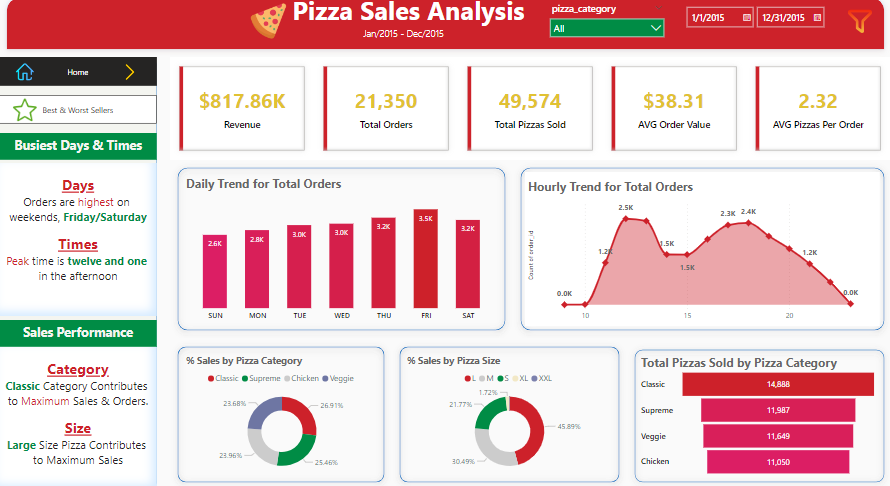

Layout of this report page (visuals, bound fields, positions):
{"tool":"powerbi","page":{"name":"Home","canvas":[1500,840],"ordinal":0},"visuals":[{"type":"shape","box":[0,0,1500.2,112.6],"z":0},{"type":"textbox","box":[473.8,0,428.4,73.9],"z":1000},{"type":"textbox","box":[598.1,57.1,163,33.6],"z":2000},{"type":"cardVisual","fields":{"Data":["_KPI's.Revenue","_KPI's.Total Orders","_KPI's.Total Pizzas Sold","_KPI's.AVG Order Value","_KPI's.AVG Pizzas Per Order"]},"box":[287.3,112.6,1213,173],"z":3000},{"type":"shape","box":[287.3,285.6,576.2,299],"z":4000},{"type":"shape","box":[863.5,285.6,636.7,299],"z":5000},{"type":"columnChart","title":"Daily Trend for Total Orders","fields":{"Y":["_KPI's.Total Orders"],"Category":["pizza_sales.Short Month"]},"box":[309.1,305.8,534.2,258.7],"z":6000},{"type":"shape","box":[287.3,586.3,373,253.7],"z":7000},{"type":"shape","box":[660.2,586.3,394.8,253.7],"z":8000},{"type":"shape","box":[1055,586.3,445.2,253.7],"z":9000},{"type":"donutChart","title":"% Sales by Pizza Category","fields":{"Category":["pizza_sales.pizza_category"],"Y":["Sum(pizza_sales.total_price)"]},"box":[309.1,606.5,332.6,215],"z":10000},{"type":"donutChart","title":"% Sales by Pizza Size","fields":{"Y":["Sum(pizza_sales.total_price)"],"Category":["pizza_sales.pizza_size"]},"box":[680.4,606.5,354.5,215],"z":11000},{"type":"funnel","title":"Total Pizzas Sold by Pizza Category","fields":{"Category":["pizza_sales.pizza_category"],"Y":["Sum(pizza_sales.quantity)"]},"box":[1073.5,606.5,406.6,215],"z":12000},{"type":"areaChart","title":"Hourly Trend for Total Orders","fields":{"Category":["pizza_sales.Hour"],"Y":["Count(pizza_sales.order_id)"]},"box":[883.7,305.8,596.4,258.7],"z":13000},{"type":"shape","box":[0,112.6,265.4,727.4],"z":14000},{"type":"textbox","box":[0,240.2,265.4,45.4],"z":15000},{"type":"textbox","box":[0,599.8,265.4,238.6],"z":16000},{"type":"textbox","box":[0,554.4,265.4,45.4],"z":17000},{"type":"textbox","box":[0,290.6,265.4,257],"z":18000},{"type":"slicer","fields":{"Values":["pizza_sales.pizza_category"]},"box":[915.6,15.1,211.7,75.6],"z":19000},{"type":"slicer","fields":{"Values":["pizza_sales.order_date"]},"box":[1142.4,18.5,262.1,75.6],"z":20000},{"type":"image","box":[416.6,15.1,72.2,73.9],"z":20001},{"type":"image","box":[1412.9,13.4,67.2,75.6],"z":20002},{"type":"pageNavigator","box":[0,112.6,265.4,48.7],"z":20003},{"type":"pageNavigator","box":[0,176.4,265.4,48.7],"z":20004},{"type":"image","box":[23.5,112.6,40.3,48.7],"z":20005},{"type":"image","box":[18.5,171.4,50.4,60.5],"z":20006},{"type":"image","box":[196.6,119.3,47,37],"z":20007}]}

Visuals, with their boxes in screenshot pixels (x1, y1, x2, y2), scaled from the page's 1500x840 canvas onto the 890x486 screenshot:
shape: 0,0,889,65
textbox: 281,0,535,43
textbox: 355,33,452,52
cardVisual - _KPI's.Revenue x _KPI's.Total Orders: 170,65,889,165
shape: 170,165,512,338
shape: 512,165,889,338
"Daily Trend for Total Orders" columnChart: 183,177,500,327
shape: 170,339,392,485
shape: 392,339,626,485
shape: 626,339,889,485
"% Sales by Pizza Category" donutChart: 183,351,381,475
"% Sales by Pizza Size" donutChart: 404,351,614,475
"Total Pizzas Sold by Pizza Category" funnel: 637,351,878,475
"Hourly Trend for Total Orders" areaChart: 524,177,878,327
shape: 0,65,157,485
textbox: 0,139,157,165
textbox: 0,347,157,485
textbox: 0,321,157,347
textbox: 0,168,157,317
slicer - pizza_sales.pizza_category: 543,9,669,52
slicer - pizza_sales.order_date: 678,11,833,54
image: 247,9,290,51
image: 838,8,878,51
pageNavigator: 0,65,157,93
pageNavigator: 0,102,157,130
image: 14,65,38,93
image: 11,99,41,134
image: 117,69,145,90
